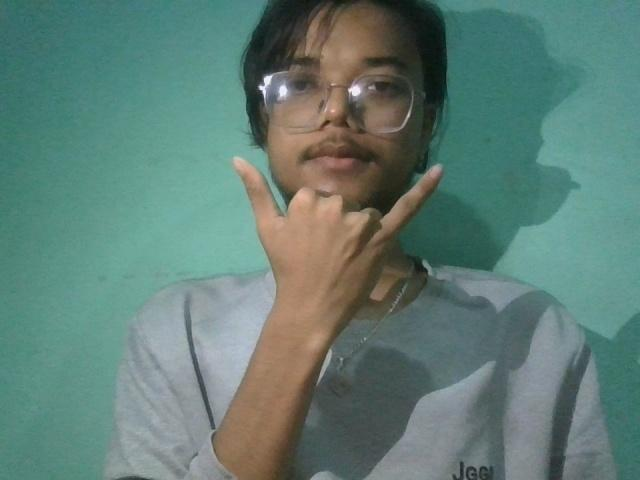Wrong: (203, 142, 461, 349)
